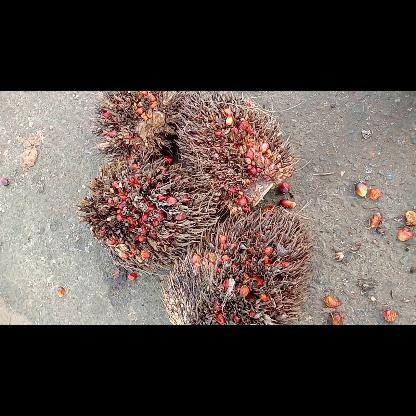Terlalu masak: (74, 150, 226, 278), (160, 204, 316, 324), (170, 91, 302, 219), (87, 90, 203, 162)
